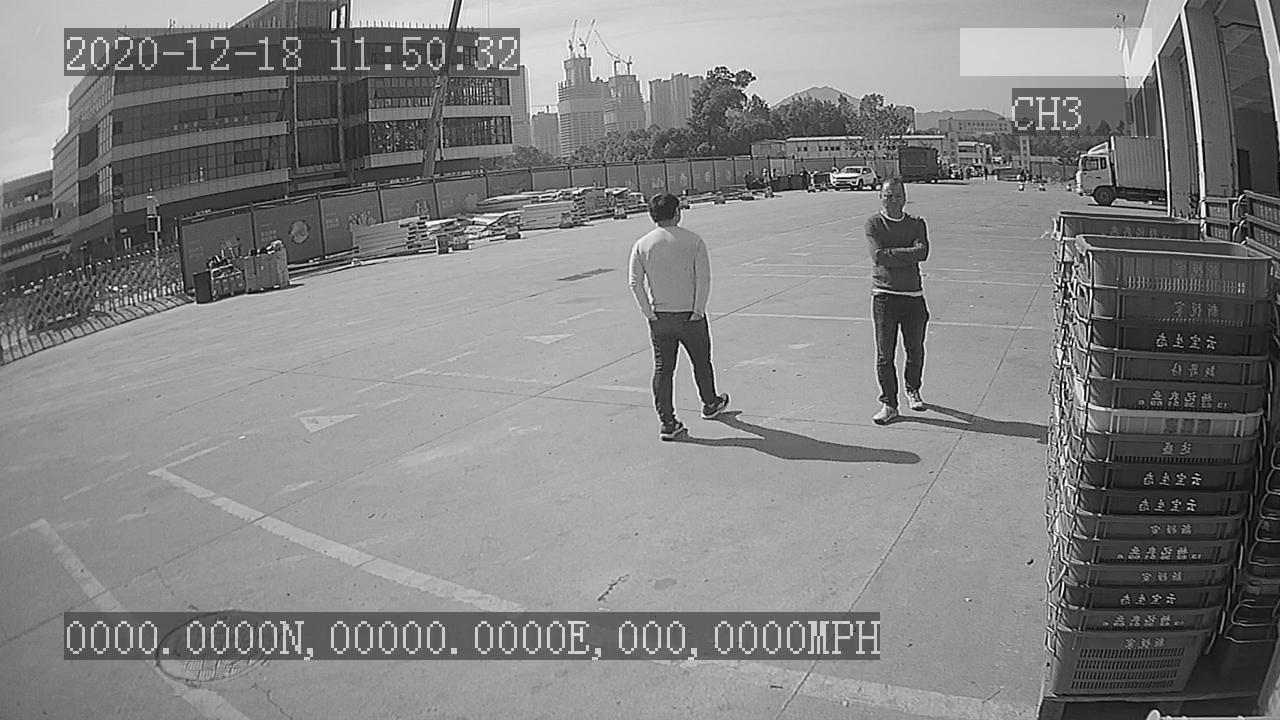person: (620, 188, 733, 445), (858, 172, 934, 431)
